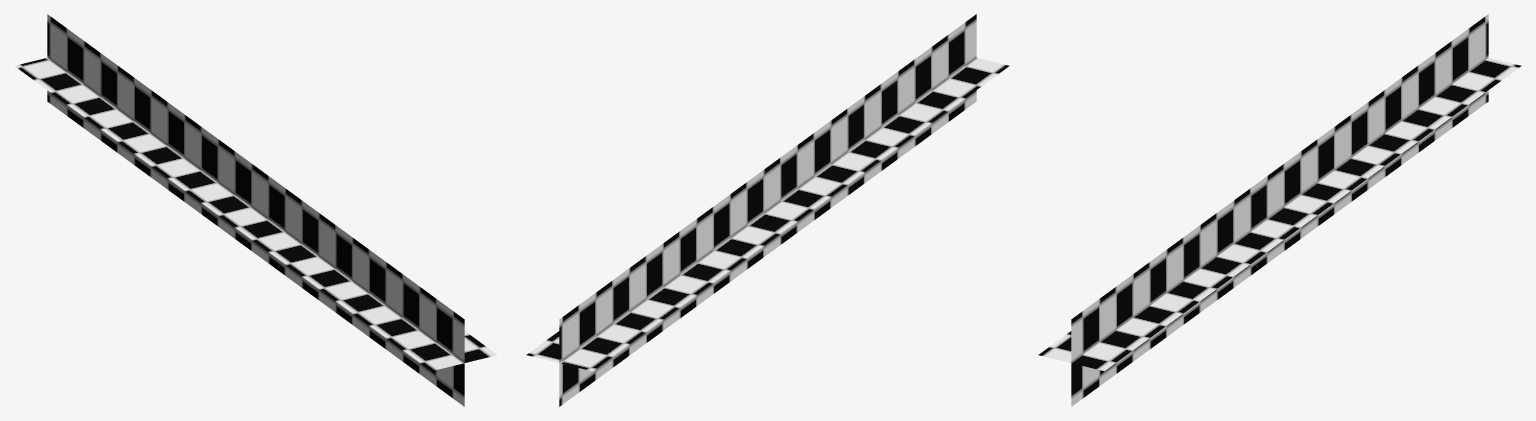
The model's file is efar1.dae.
3 views of the same model, side by side, from view 1: azimuth 30°, elevation 25°; view 2: azimuth 150°, elevation 25°; view 3: azimuth 330°, elevation 25° (orthographic).
Parts seen in each view (by area): view 1: arrow; view 2: arrow; view 3: arrow.
Boxes of the visible parts, x1,y1,x2,y2 form: arrow: [14, 14, 497, 406]; arrow: [526, 14, 1009, 406]; arrow: [1038, 14, 1521, 406].
Size of the model in its own units: 0.0932 by 1.01 by 0.1174.
Materials: 1 (1 with a texture image).
